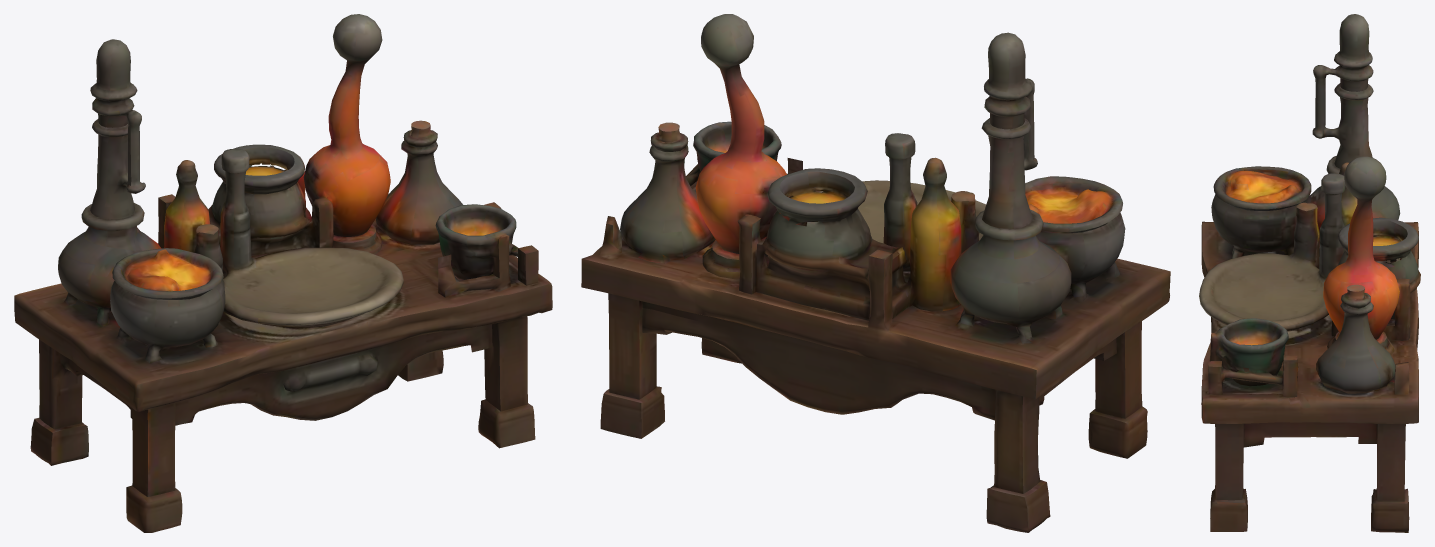
The model's file is alchemy lab.glb.
3 views of the same model, side by side, from view 1: azimuth 30°, elevation 25°; view 2: azimuth 150°, elevation 25°; view 3: azimuth 270°, elevation 25° (orthographic). The views are drawn at different scales.
Parts seen in each view (by area): view 1: Mesh0; view 2: Mesh0; view 3: Mesh0.
Boxes of the visible parts, bbox=[...] form: Mesh0: bbox=[14, 14, 552, 532]; Mesh0: bbox=[581, 14, 1170, 532]; Mesh0: bbox=[1199, 14, 1420, 532].
Size of the model in its own units: 2 by 1.93 by 1.04.
Materials: 1 (1 with a texture image).
